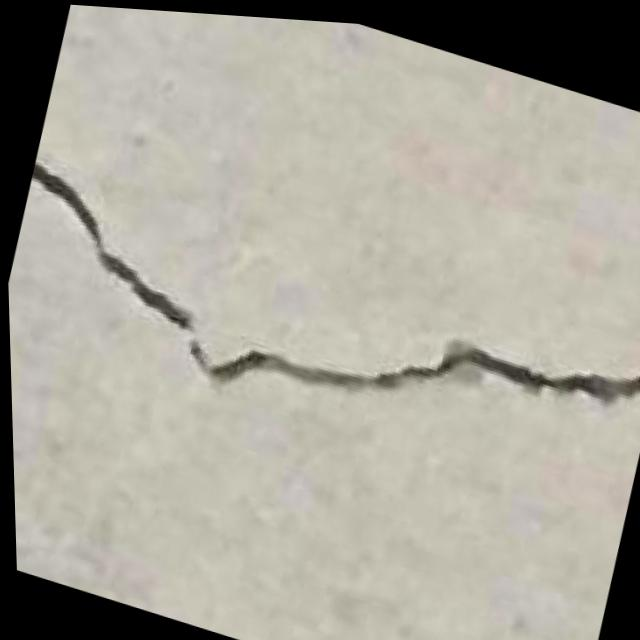Crack: (3, 139, 640, 533)
